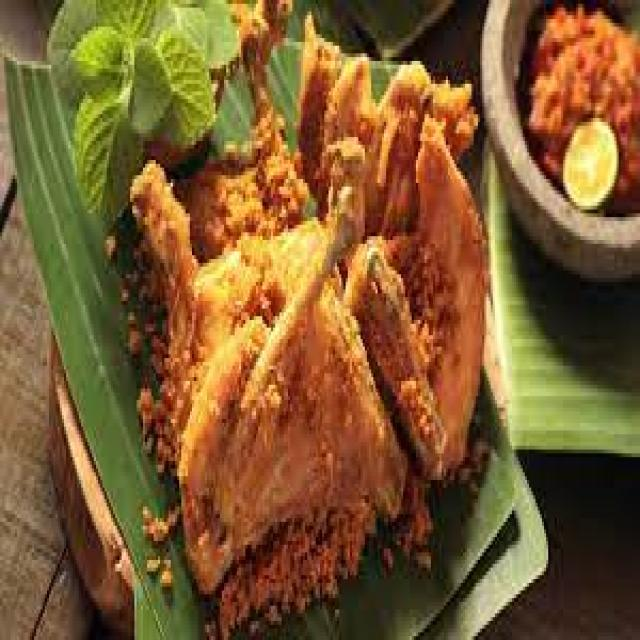Frango: (192, 273, 388, 558), (369, 168, 471, 450), (294, 96, 416, 274), (208, 118, 290, 296)
